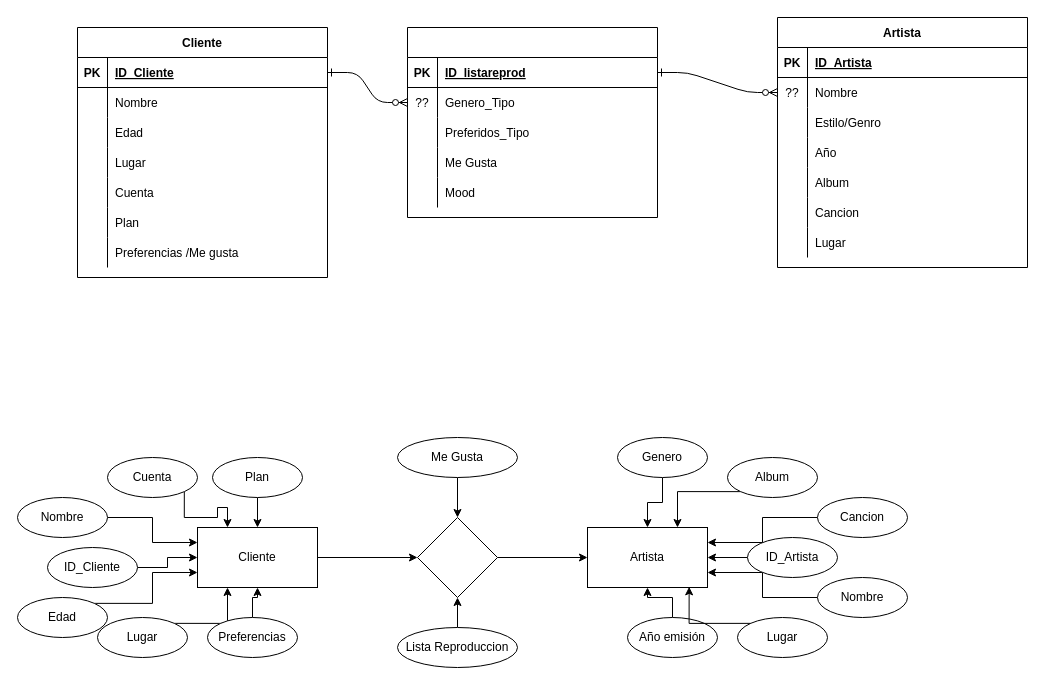
Image size: 1045x685. Some labels were removed from this diagram. The shapes that lost their labels are listed below. From the top down, each one's box as (x1, y1, x2, y2) in pixels, then its label:
(406, 26, 658, 218): Lista de Reproduccion
(416, 516, 498, 598): escuchar
